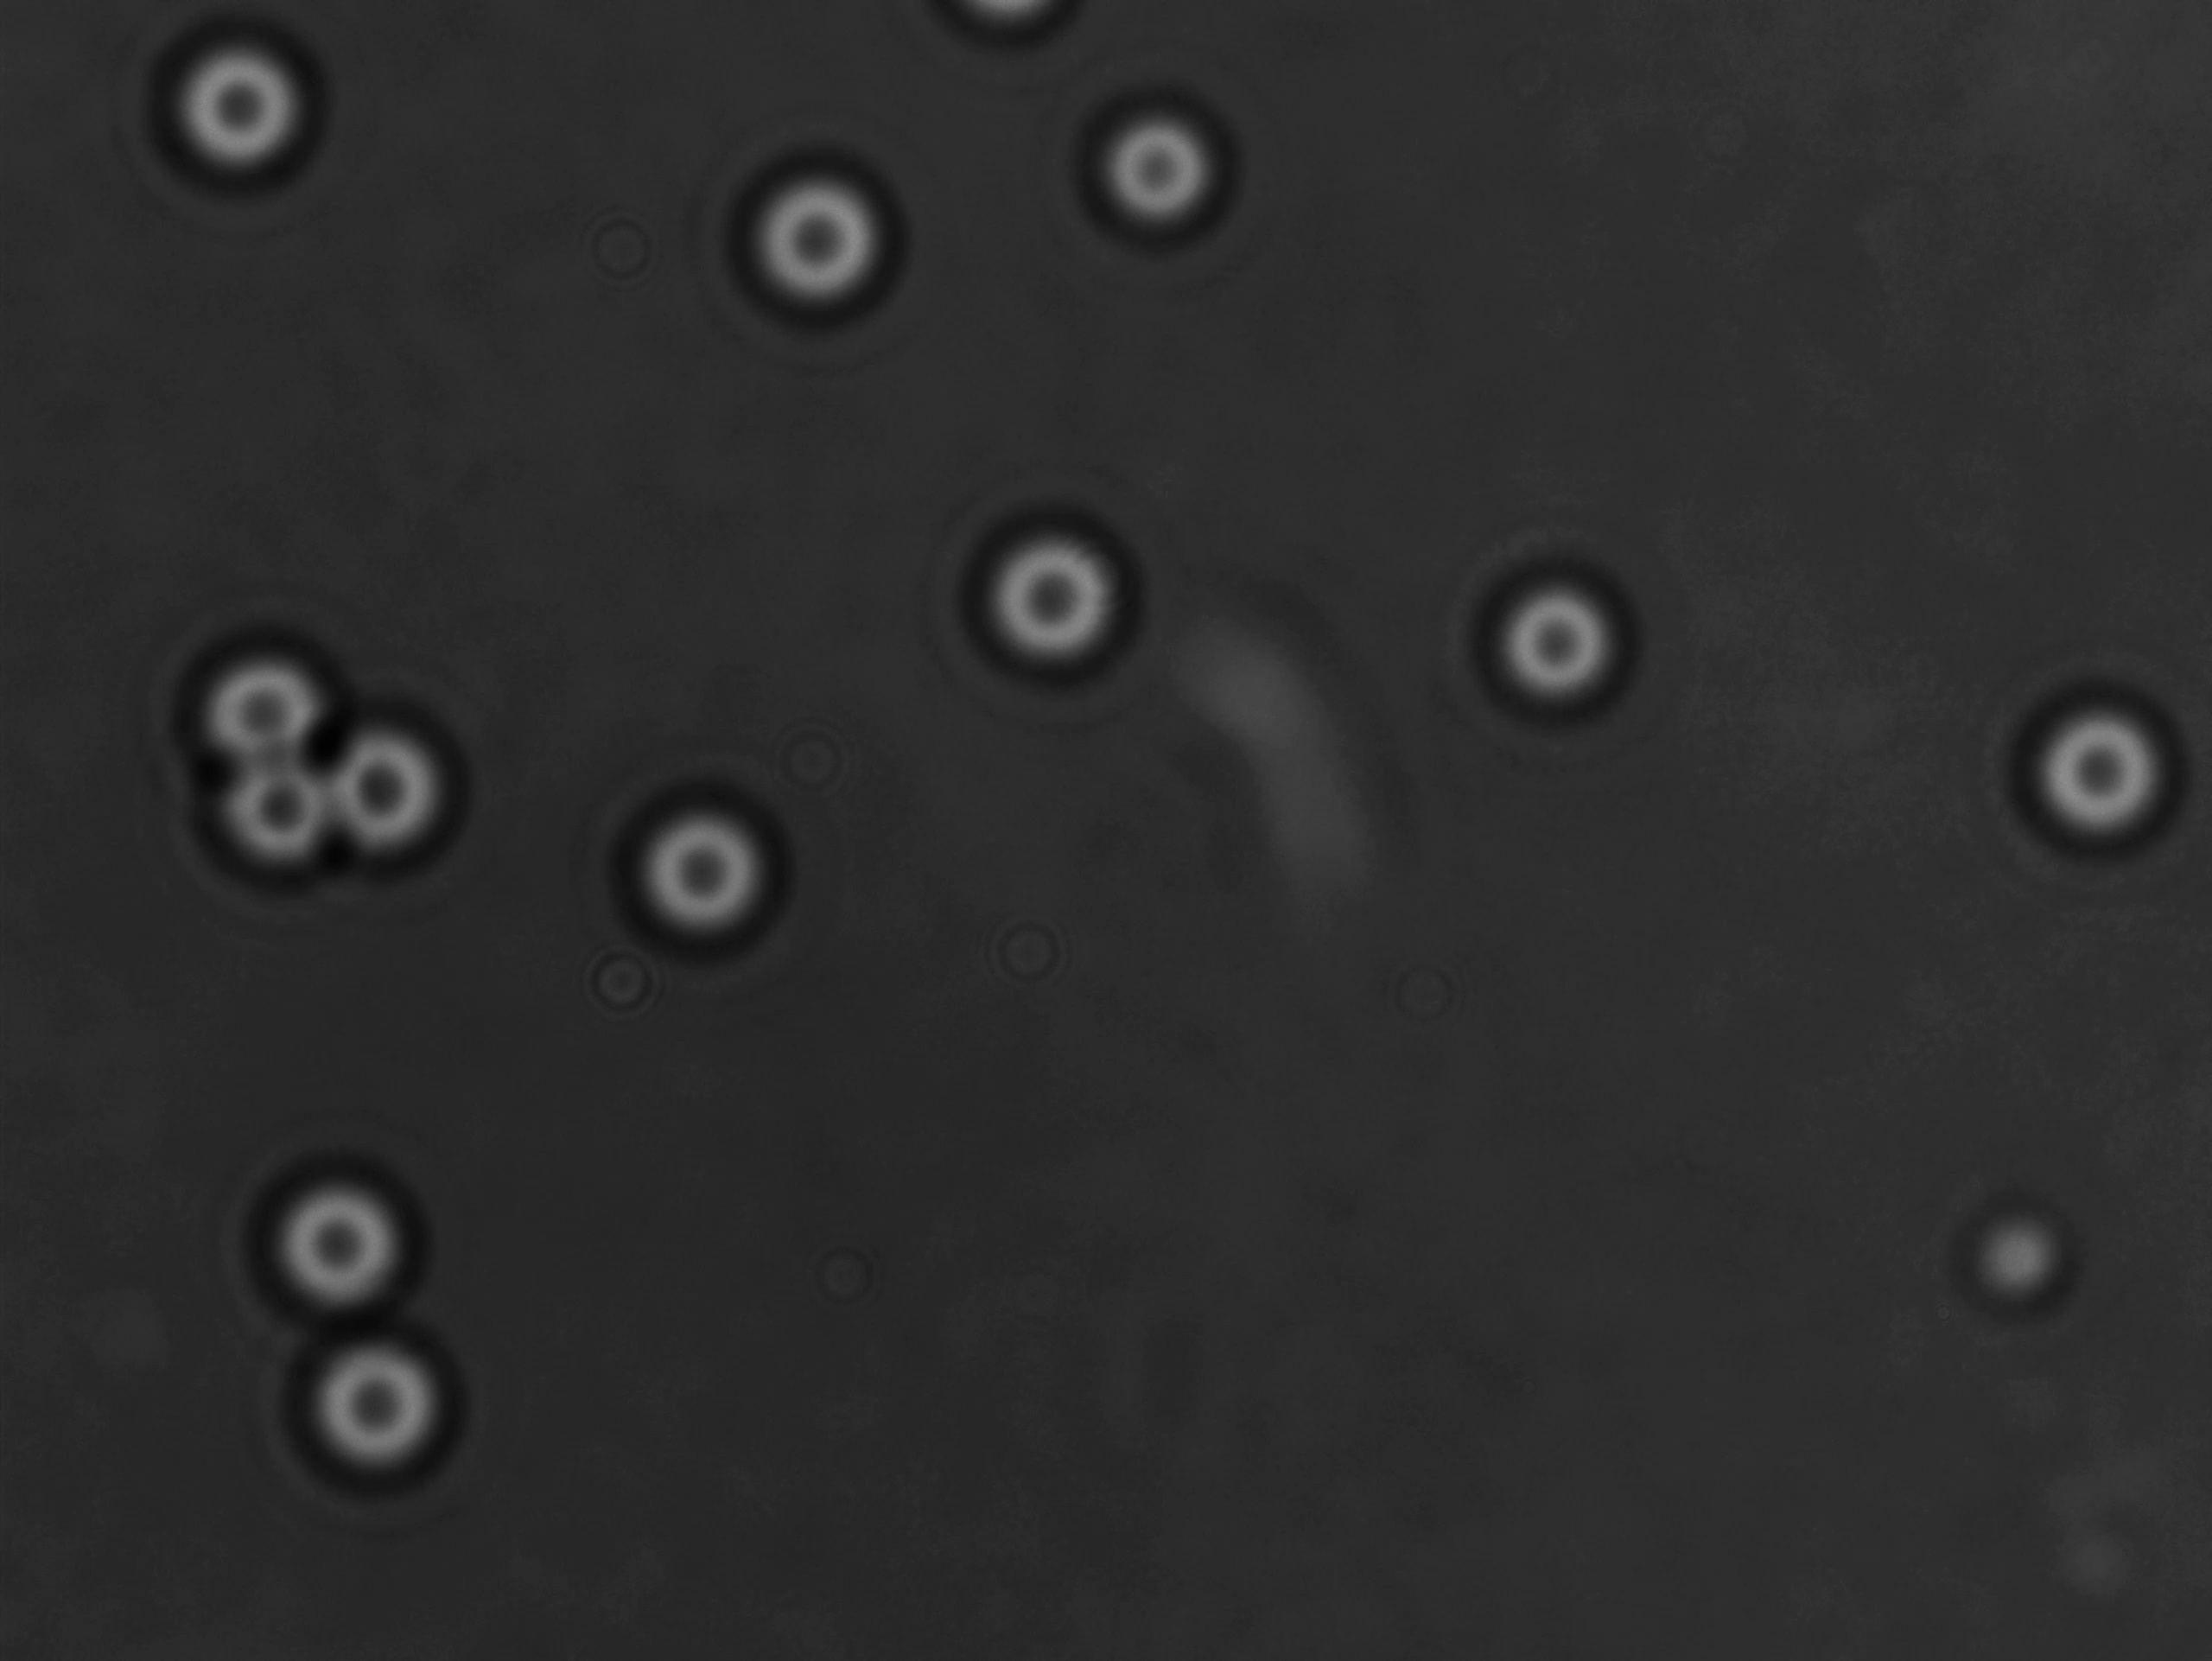depth:80: (947, 497, 1179, 705), (1462, 534, 1675, 740), (609, 759, 816, 963), (1989, 665, 2202, 855), (242, 1155, 445, 1343), (293, 1302, 492, 1485), (157, 14, 359, 192), (733, 141, 918, 328), (173, 593, 356, 776), (305, 710, 480, 881)
